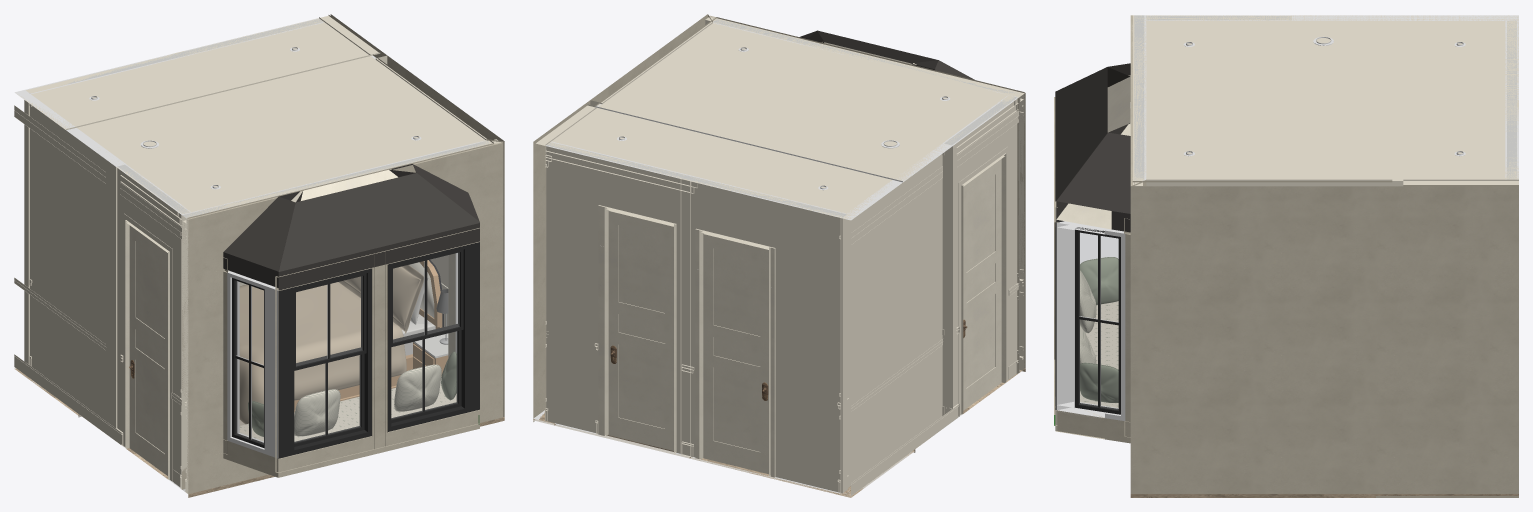
The model's file is loli-bedroom-3e0322d25b63.glb.
3 views of the same model, side by side, from view 1: azimuth 30°, elevation 25°; view 2: azimuth 150°, elevation 25°; view 3: azimuth 270°, elevation 25° (orthographic). The views are drawn at different scales.
Parts seen in each view (by area): view 1: loli-bedroom-dbd60ee5c3733ed6, loli-bedroom-93447d0fea18c81b, loli-bedroom-6a1144f4e43410bb, loli-bedroom-fd1c2425c72e98e4, loli-bedroom-daa4f3edc919433a, loli-bedroom-4cda501b4aaed82b, loli-bedroom-2575515a05775d9e, loli-bedroom-7cd33252cebb505d, loli-bedroom-527014f532f46c8e, loli-bedroom-cf6d22c5317ced0b, loli-bedroom-75b75731e5e739a5, loli-bedroom-68d06b361ac47823 (+21 smaller); view 2: loli-bedroom-0e637d2be41161fb, loli-bedroom-dbd60ee5c3733ed6, loli-bedroom-6a1144f4e43410bb, loli-bedroom-eceff908bd344cec, loli-bedroom-5b37b110dc0e2cdc, loli-bedroom-2575515a05775d9e, loli-bedroom-68d06b361ac47823, loli-bedroom-cf6d22c5317ced0b, loli-bedroom-319244b3406409d9, loli-bedroom-93447d0fea18c81b, loli-bedroom-d6b1bc8c737b28e2, loli-bedroom-8cbce1d8f2f8a576 (+14 smaller); view 3: loli-bedroom-592bd9af2ed71797, loli-bedroom-dbd60ee5c3733ed6, loli-bedroom-319244b3406409d9, loli-bedroom-2575515a05775d9e, loli-bedroom-53e6a9e479527da3, loli-bedroom-daa4f3edc919433a, loli-bedroom-131a246e00605616, loli-bedroom-d8b729a36612415b, loli-bedroom-93447d0fea18c81b, loli-bedroom-0e637d2be41161fb, loli-bedroom-ad11484878029c25, loli-bedroom-e0a3201bd49c7536 (+9 smaller).
Boxes of the visible parts, left/top/right/bottom form: loli-bedroom-dbd60ee5c3733ed6: left=77, top=54, right=494, bottom=218; loli-bedroom-93447d0fea18c81b: left=181, top=140, right=502, bottom=494; loli-bedroom-6a1144f4e43410bb: left=14, top=90, right=125, bottom=428; loli-bedroom-fd1c2425c72e98e4: left=279, top=268, right=371, bottom=458; loli-bedroom-daa4f3edc919433a: left=278, top=169, right=479, bottom=290; loli-bedroom-4cda501b4aaed82b: left=388, top=242, right=479, bottom=431; loli-bedroom-2575515a05775d9e: left=17, top=15, right=380, bottom=130; loli-bedroom-7cd33252cebb505d: left=239, top=282, right=406, bottom=424; loli-bedroom-527014f532f46c8e: left=227, top=271, right=278, bottom=458; loli-bedroom-cf6d22c5317ced0b: left=129, top=225, right=167, bottom=475; loli-bedroom-75b75731e5e739a5: left=277, top=264, right=478, bottom=477; loli-bedroom-68d06b361ac47823: left=116, top=164, right=190, bottom=487; loli-bedroom-0e637d2be41161fb: left=545, top=141, right=847, bottom=493; loli-bedroom-dbd60ee5c3733ed6: left=595, top=17, right=1024, bottom=182; loli-bedroom-6a1144f4e43410bb: left=842, top=143, right=952, bottom=495; loli-bedroom-eceff908bd344cec: left=608, top=210, right=673, bottom=450; loli-bedroom-5b37b110dc0e2cdc: left=703, top=233, right=768, bottom=474; loli-bedroom-2575515a05775d9e: left=535, top=104, right=892, bottom=220; loli-bedroom-68d06b361ac47823: left=942, top=96, right=1018, bottom=420; loli-bedroom-cf6d22c5317ced0b: left=963, top=159, right=1001, bottom=410; loli-bedroom-319244b3406409d9: left=533, top=100, right=601, bottom=419; loli-bedroom-93447d0fea18c81b: left=709, top=15, right=1025, bottom=372; loli-bedroom-d6b1bc8c737b28e2: left=695, top=228, right=775, bottom=477; loli-bedroom-8cbce1d8f2f8a576: left=961, top=153, right=1006, bottom=414; loli-bedroom-592bd9af2ed71797: left=1130, top=179, right=1392, bottom=493; loli-bedroom-dbd60ee5c3733ed6: left=1132, top=15, right=1403, bottom=182; loli-bedroom-319244b3406409d9: left=1392, top=179, right=1518, bottom=493; loli-bedroom-2575515a05775d9e: left=1403, top=15, right=1518, bottom=186; loli-bedroom-53e6a9e479527da3: left=1056, top=221, right=1125, bottom=421; loli-bedroom-daa4f3edc919433a: left=1055, top=67, right=1130, bottom=221; loli-bedroom-131a246e00605616: left=1056, top=124, right=1130, bottom=232; loli-bedroom-d8b729a36612415b: left=1055, top=234, right=1130, bottom=443; loli-bedroom-93447d0fea18c81b: left=1130, top=15, right=1146, bottom=185; loli-bedroom-0e637d2be41161fb: left=1505, top=20, right=1518, bottom=179; loli-bedroom-ad11484878029c25: left=1147, top=177, right=1391, bottom=186; loli-bedroom-e0a3201bd49c7536: left=1080, top=301, right=1118, bottom=407.
Bounding box in the file's own units: 3.62 × 3.05 × 4.12.
Materials: 43 (8 with a texture image).
